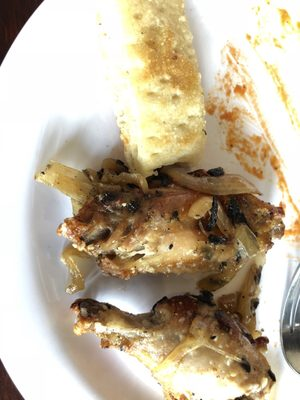soup: (34, 3, 300, 384)
